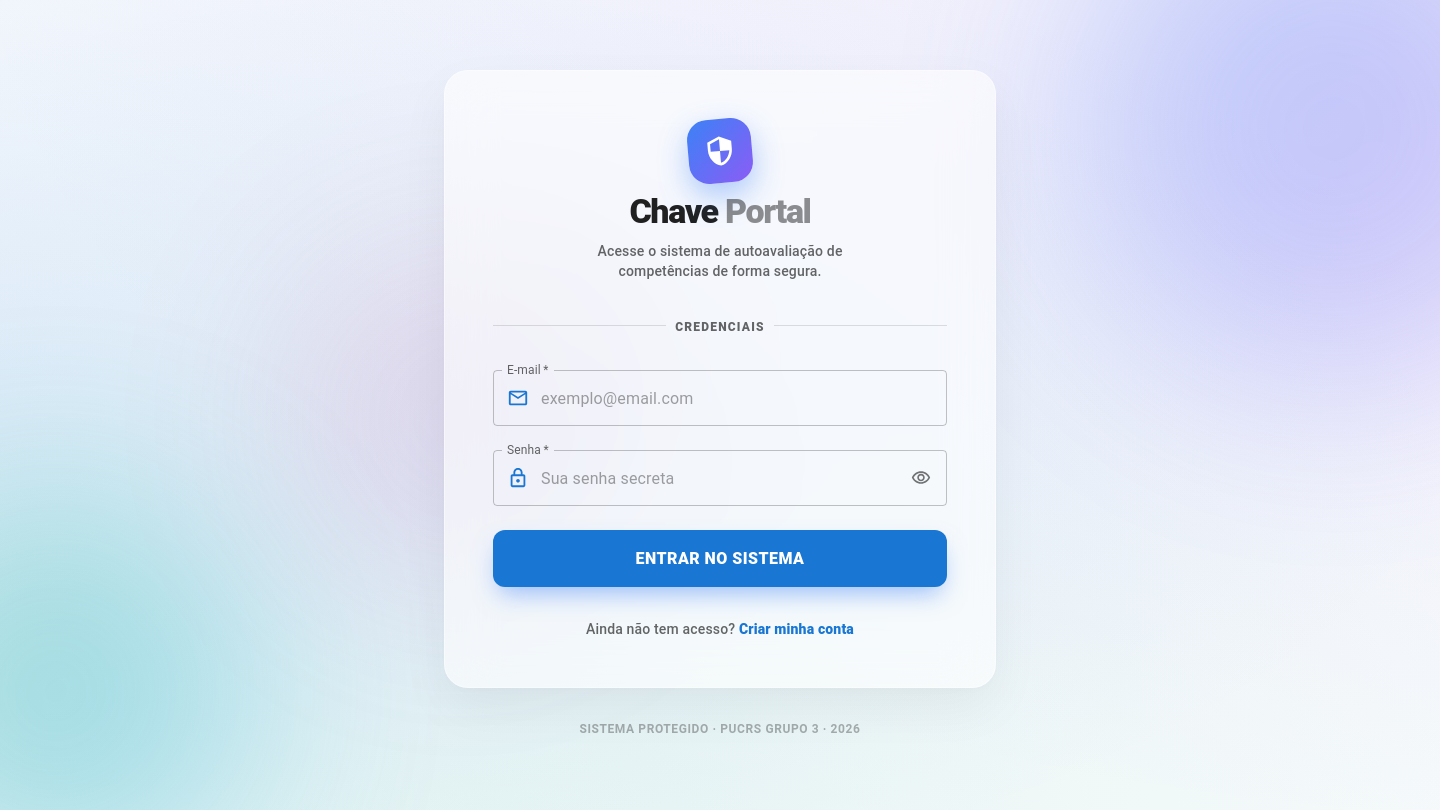
LoginForm › exibe mensagem de erro generica em falha desconhecida
Type "joao@email.com" into the field labelled "E-mail *".
click(744, 398); type("joao@email.com")  # box [541,370,947,426]
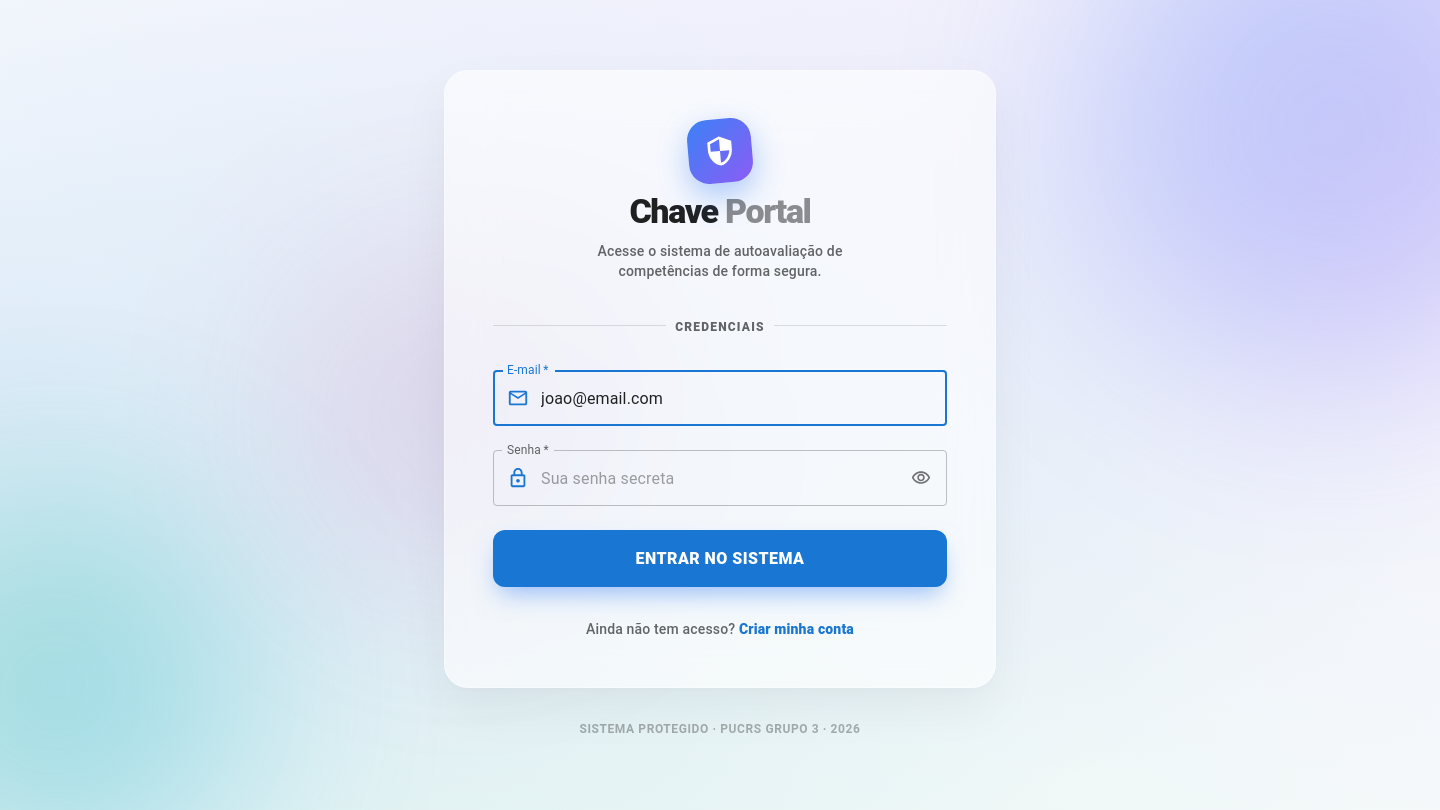
Type "senha123" into the password field labelled "Senha *".
click(720, 478); type("senha123")  # box [541,450,898,506]
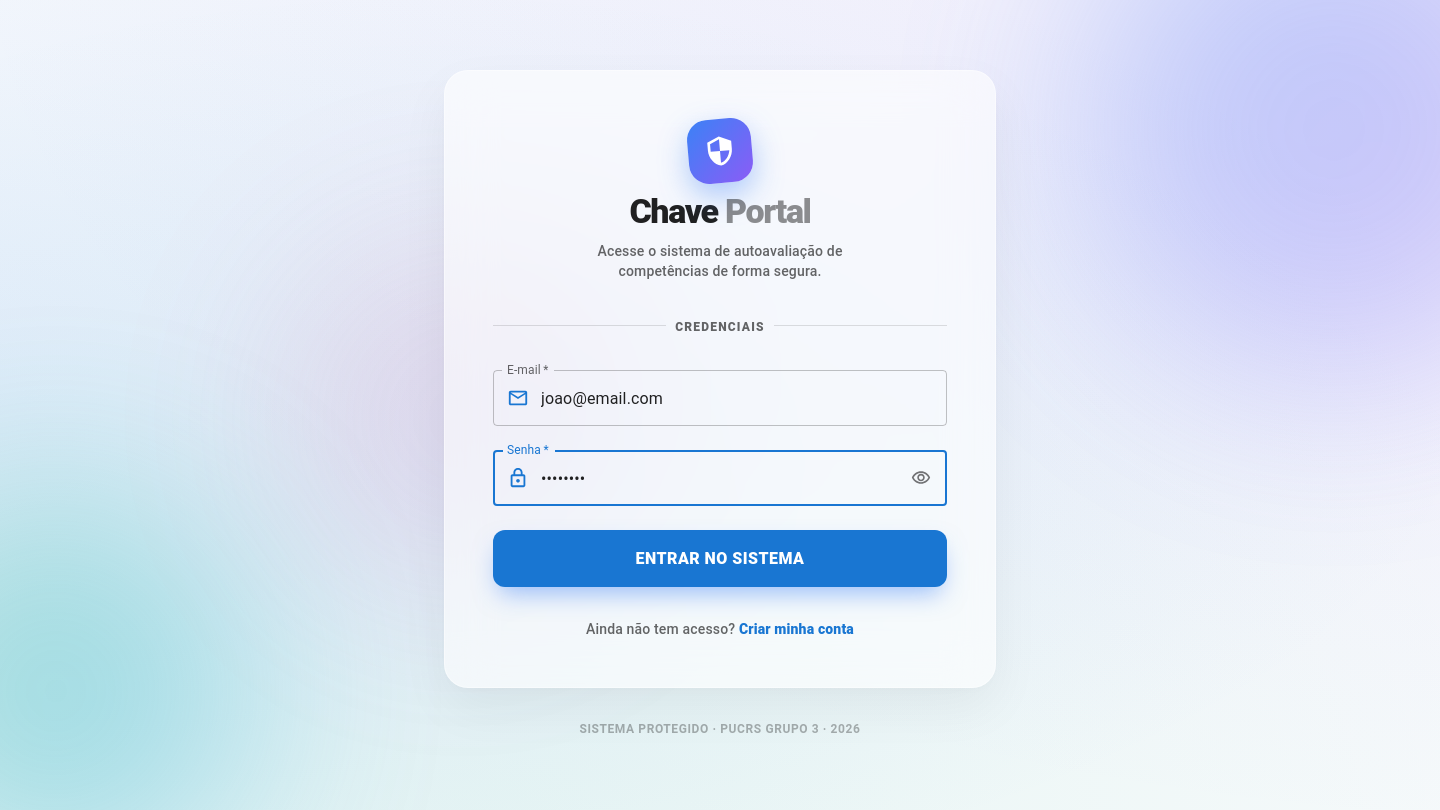
Click the button "Entrar no Sistema".
click(720, 558)  # box [493,530,947,587]
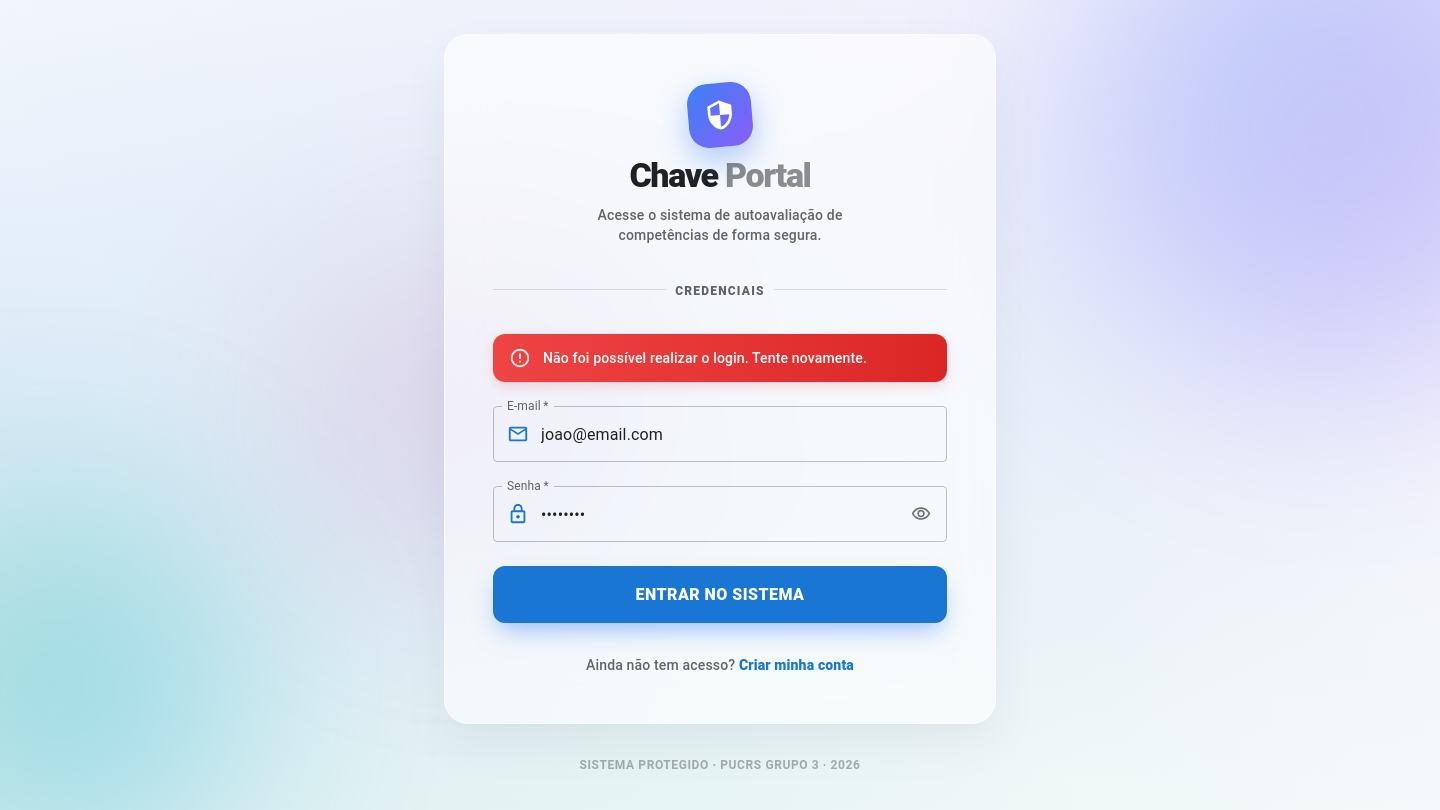
Expected: the text "Não foi possível realizar o login. Tente novamente." is shown, [543,350,867,366]
